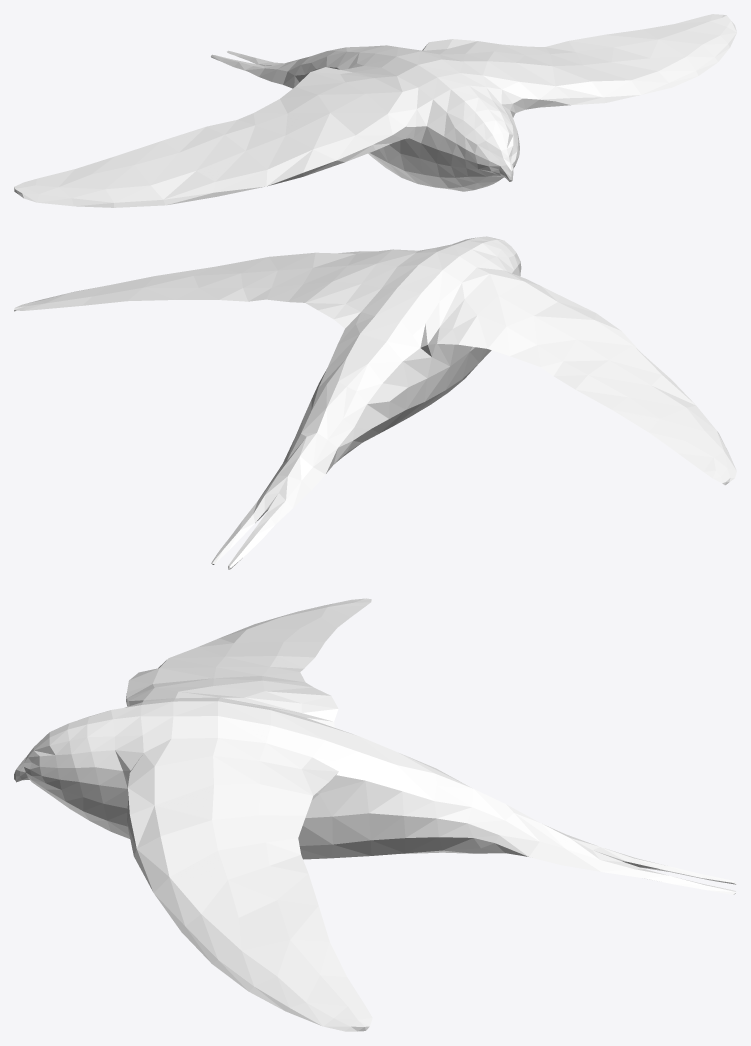
The model's file is swift3.glb.
The picture shows the model from 3 angles, top to bottom: view 1: azimuth 30°, elevation 25°; view 2: azimuth 150°, elevation 25°; view 3: azimuth 270°, elevation 25°; orthographic projection. The views are drawn at different scales.
Parts seen in each view (by area): view 1: mesh_node; view 2: mesh_node; view 3: mesh_node.
Part boxes in pixels (x1,y1,x2,y2): mesh_node: (14, 14, 736, 207); mesh_node: (14, 236, 736, 569); mesh_node: (14, 598, 736, 1031).
Size of the model in its own units: 1 by 0.1973 by 0.7129.
1 material, 1 textured.
